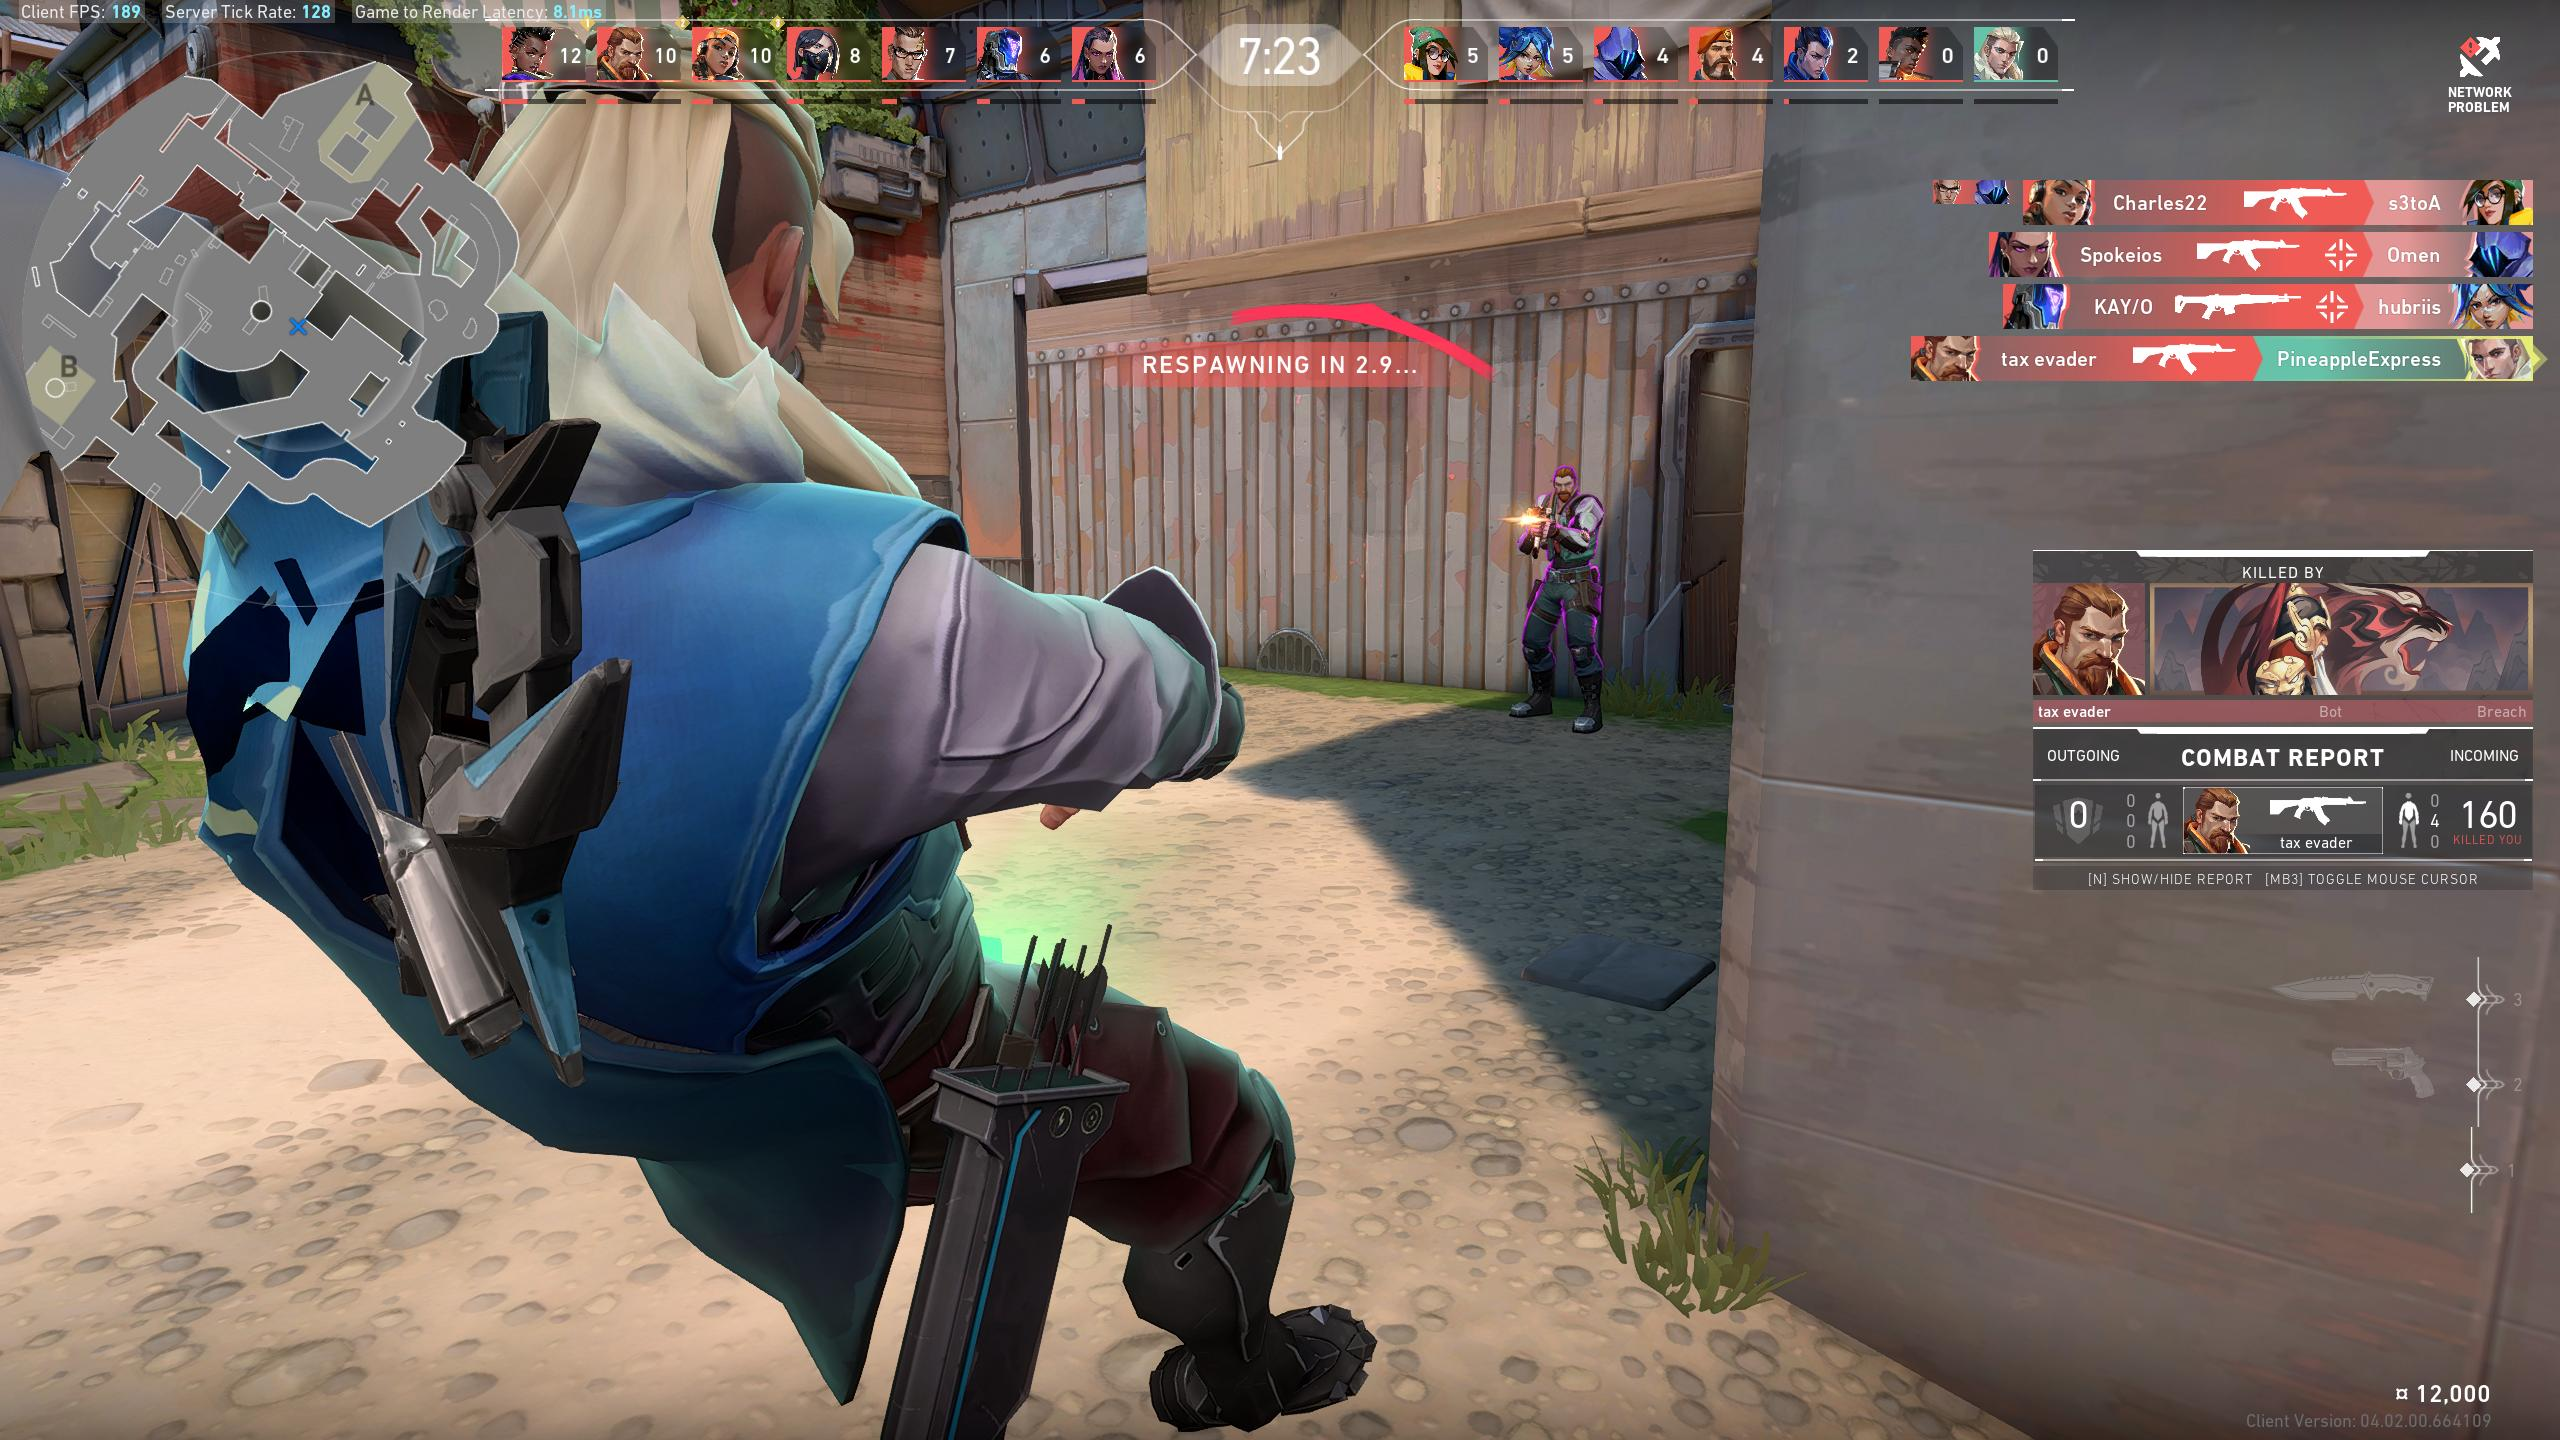enemyBody: (1549, 501, 1591, 559)
enemyHead: (1556, 475, 1574, 498)
